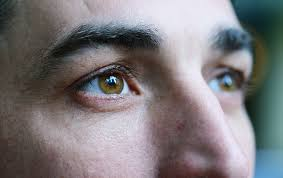pupil: (100, 71, 123, 94), (217, 73, 233, 90)
